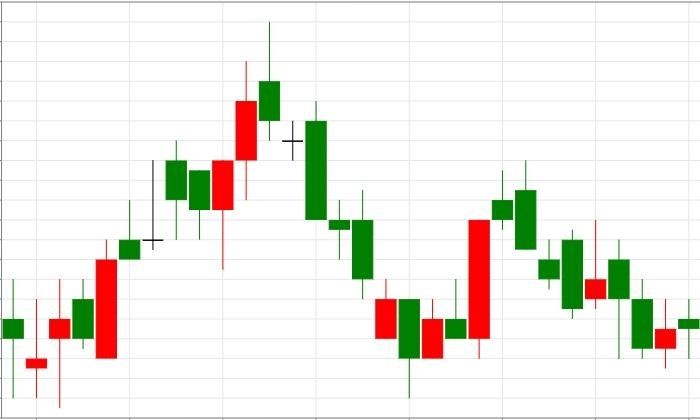shooting_star_fall: (95, 21, 281, 358)
